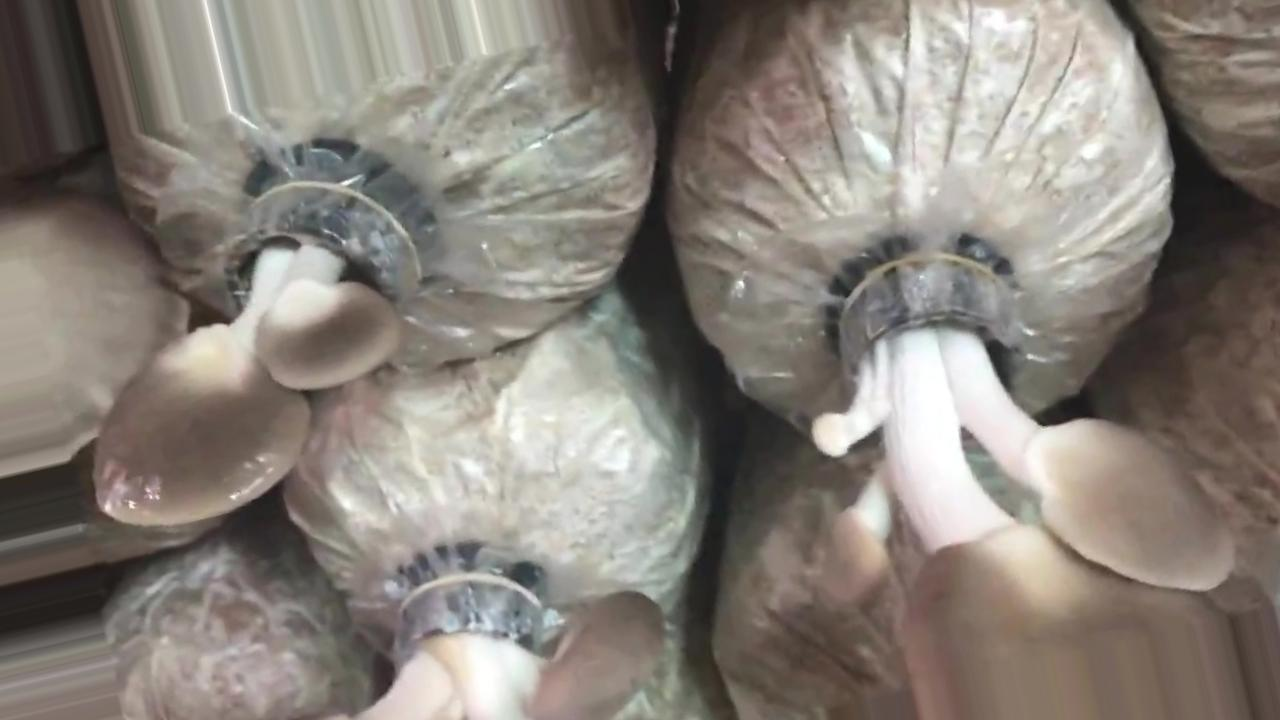nam: (809, 246, 1241, 720), (89, 155, 427, 528), (388, 557, 670, 720)
